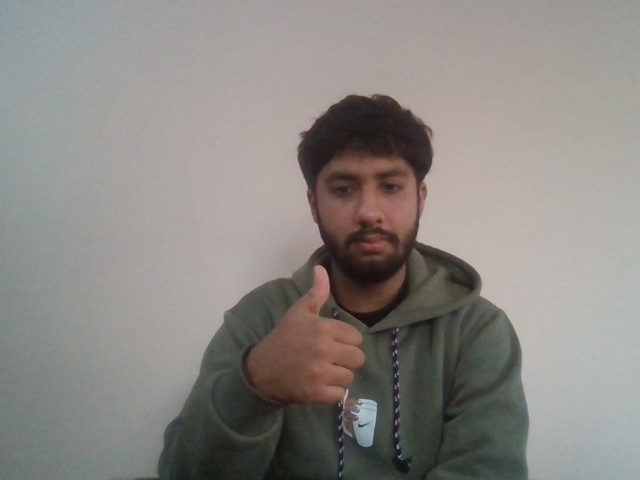Yes: (228, 255, 373, 406)
